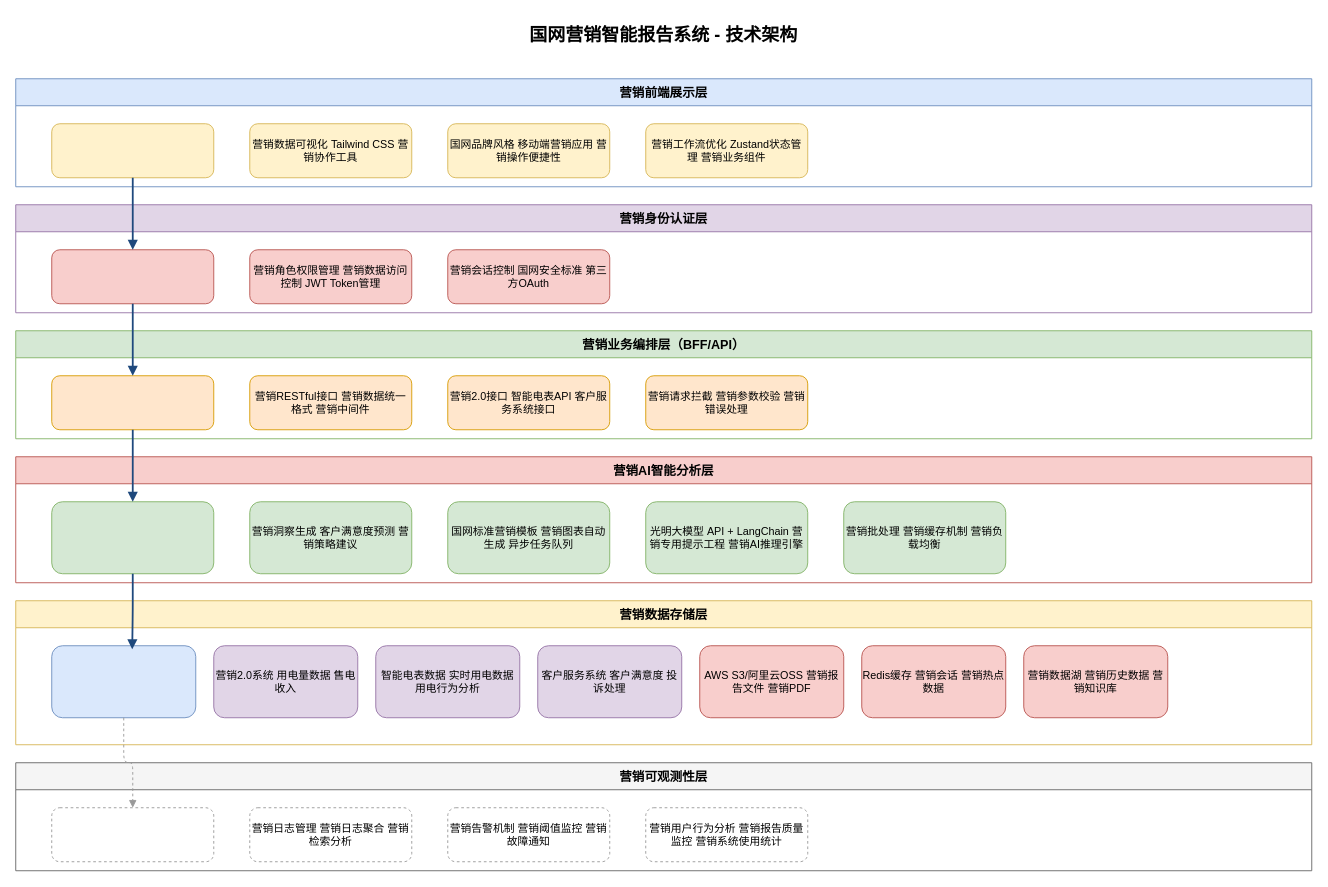
Image size: 1328x887. Some labels were removed from this diagram. Here are the shapes that lost their labels. From the top down, the centre of each, then its label:
At pixel 132 150: "Vite + React + TypeScript 国网UI组件库 营销报告界面".
At pixel 132 276: "Supabase Auth 国网SSO集成 统一认证".
At pixel 132 402: "营销业务编排 营销权限校验 营销审计日志".
At pixel 132 537: "用电量异常识别 客户流失风险预警 售电收入趋势分析".
At pixel 123 681: "PostgreSQL 营销用户数据 营销项目元数据".
At pixel 132 834: "营销性能监控 营销错误追踪 营销业务指标".
